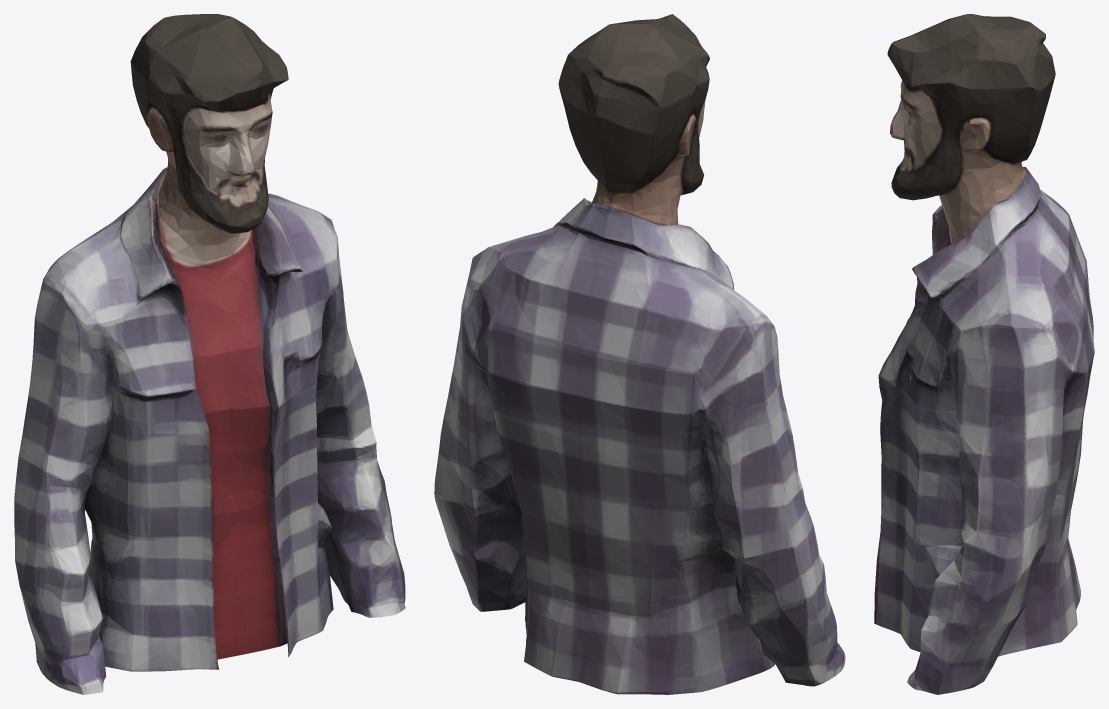
3 views of the same model, side by side, from view 1: azimuth 30°, elevation 25°; view 2: azimuth 150°, elevation 25°; view 3: azimuth 270°, elevation 25° (orthographic). The views are drawn at different scales.
Visible parts, largest first — view 1: geometry_0; view 2: geometry_0; view 3: geometry_0.
Boxes of the visible parts, x1,y1,x2,y2 form: geometry_0: [14, 14, 405, 694]; geometry_0: [434, 14, 845, 694]; geometry_0: [874, 14, 1094, 694].
Bounding box in the file's own units: 0.5218 × 0.8284 × 0.2796.
1 material, 1 textured.
